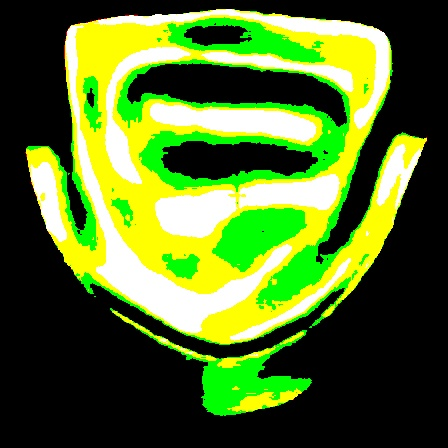coin_1: (56, 131, 76, 151)
coin_2: (61, 41, 81, 61)
coin_3: (402, 123, 422, 143)
coin_4: (406, 78, 426, 98)
